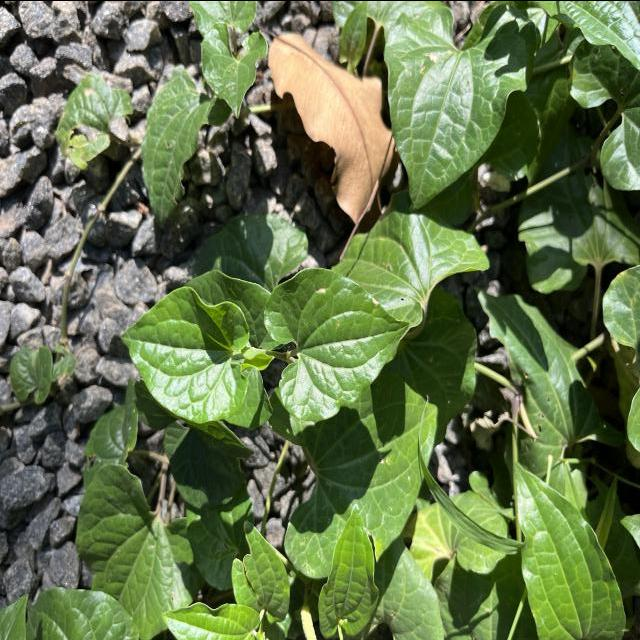Piper longum: (262, 264, 412, 422), (118, 283, 252, 425)
